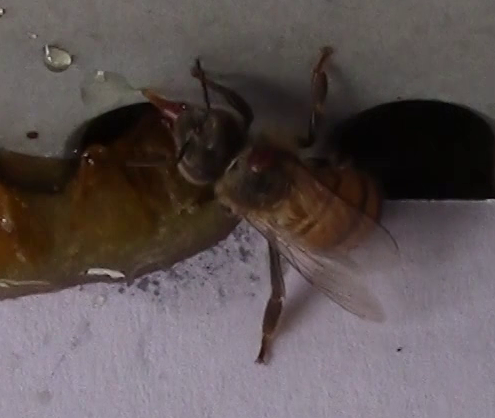Varroa destructor: (243, 150, 279, 175)
